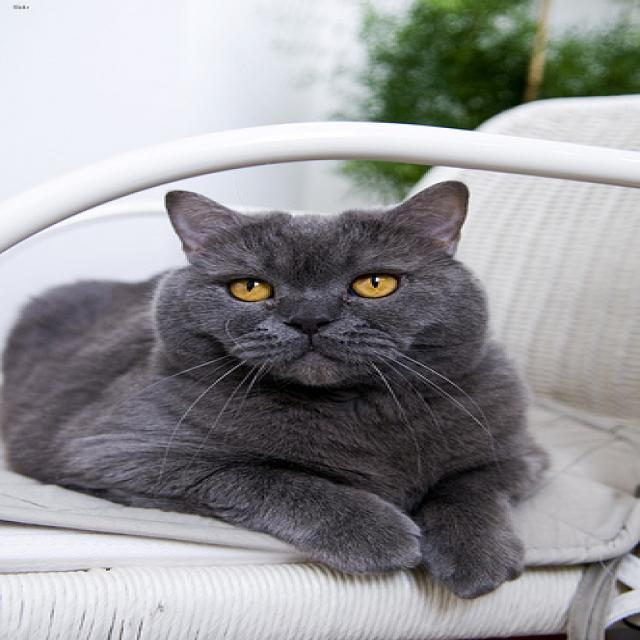British_Shorthair: (162, 179, 466, 383)
